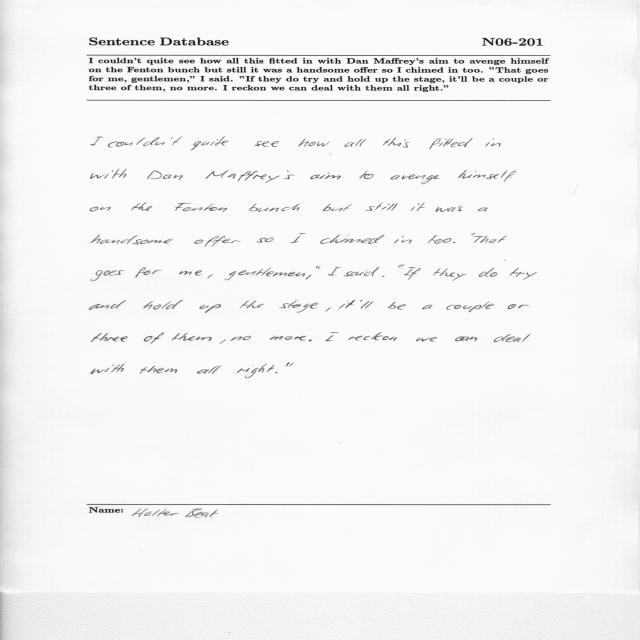word: (206, 170, 295, 183), (225, 268, 305, 280), (92, 235, 173, 245), (458, 169, 516, 182), (108, 137, 182, 147), (320, 234, 385, 244), (237, 364, 275, 379), (194, 235, 240, 247), (446, 301, 494, 312), (279, 300, 318, 313), (391, 174, 440, 184), (429, 138, 473, 149), (191, 137, 228, 150), (176, 203, 228, 212), (433, 268, 466, 281), (249, 204, 300, 212), (143, 300, 183, 310), (349, 333, 397, 341), (89, 300, 126, 310), (91, 270, 124, 281), (91, 169, 127, 179), (147, 171, 183, 181), (344, 267, 380, 277), (91, 364, 125, 374), (510, 268, 537, 280), (92, 333, 128, 342), (172, 333, 212, 341), (383, 137, 410, 148), (365, 202, 398, 211), (135, 267, 162, 278), (494, 334, 531, 342), (140, 366, 177, 374), (473, 236, 507, 244), (323, 204, 353, 212), (144, 332, 164, 344), (239, 300, 264, 309), (298, 139, 330, 146), (404, 267, 421, 280), (310, 173, 341, 180), (428, 235, 452, 244), (197, 365, 221, 374), (199, 304, 221, 313), (306, 266, 321, 279), (345, 139, 367, 147), (479, 268, 498, 277), (131, 203, 152, 211), (435, 206, 463, 212), (290, 233, 306, 243), (254, 141, 279, 147), (269, 336, 306, 340), (339, 300, 355, 309), (388, 302, 406, 310), (394, 236, 411, 244), (359, 171, 374, 179), (410, 203, 425, 211), (360, 300, 373, 309), (179, 271, 202, 276), (508, 304, 530, 309), (455, 337, 477, 342), (256, 237, 274, 243), (90, 207, 111, 212), (416, 337, 437, 342), (326, 333, 339, 341), (231, 336, 251, 341), (91, 137, 103, 145), (491, 138, 500, 147), (328, 268, 337, 276), (422, 305, 433, 309), (478, 208, 488, 212), (309, 338, 319, 342), (286, 363, 293, 367), (208, 274, 213, 279), (326, 307, 332, 311), (220, 340, 226, 344), (398, 265, 404, 267), (471, 233, 475, 235), (335, 267, 341, 268), (453, 242, 455, 243), (382, 276, 384, 277), (275, 372, 277, 373)
